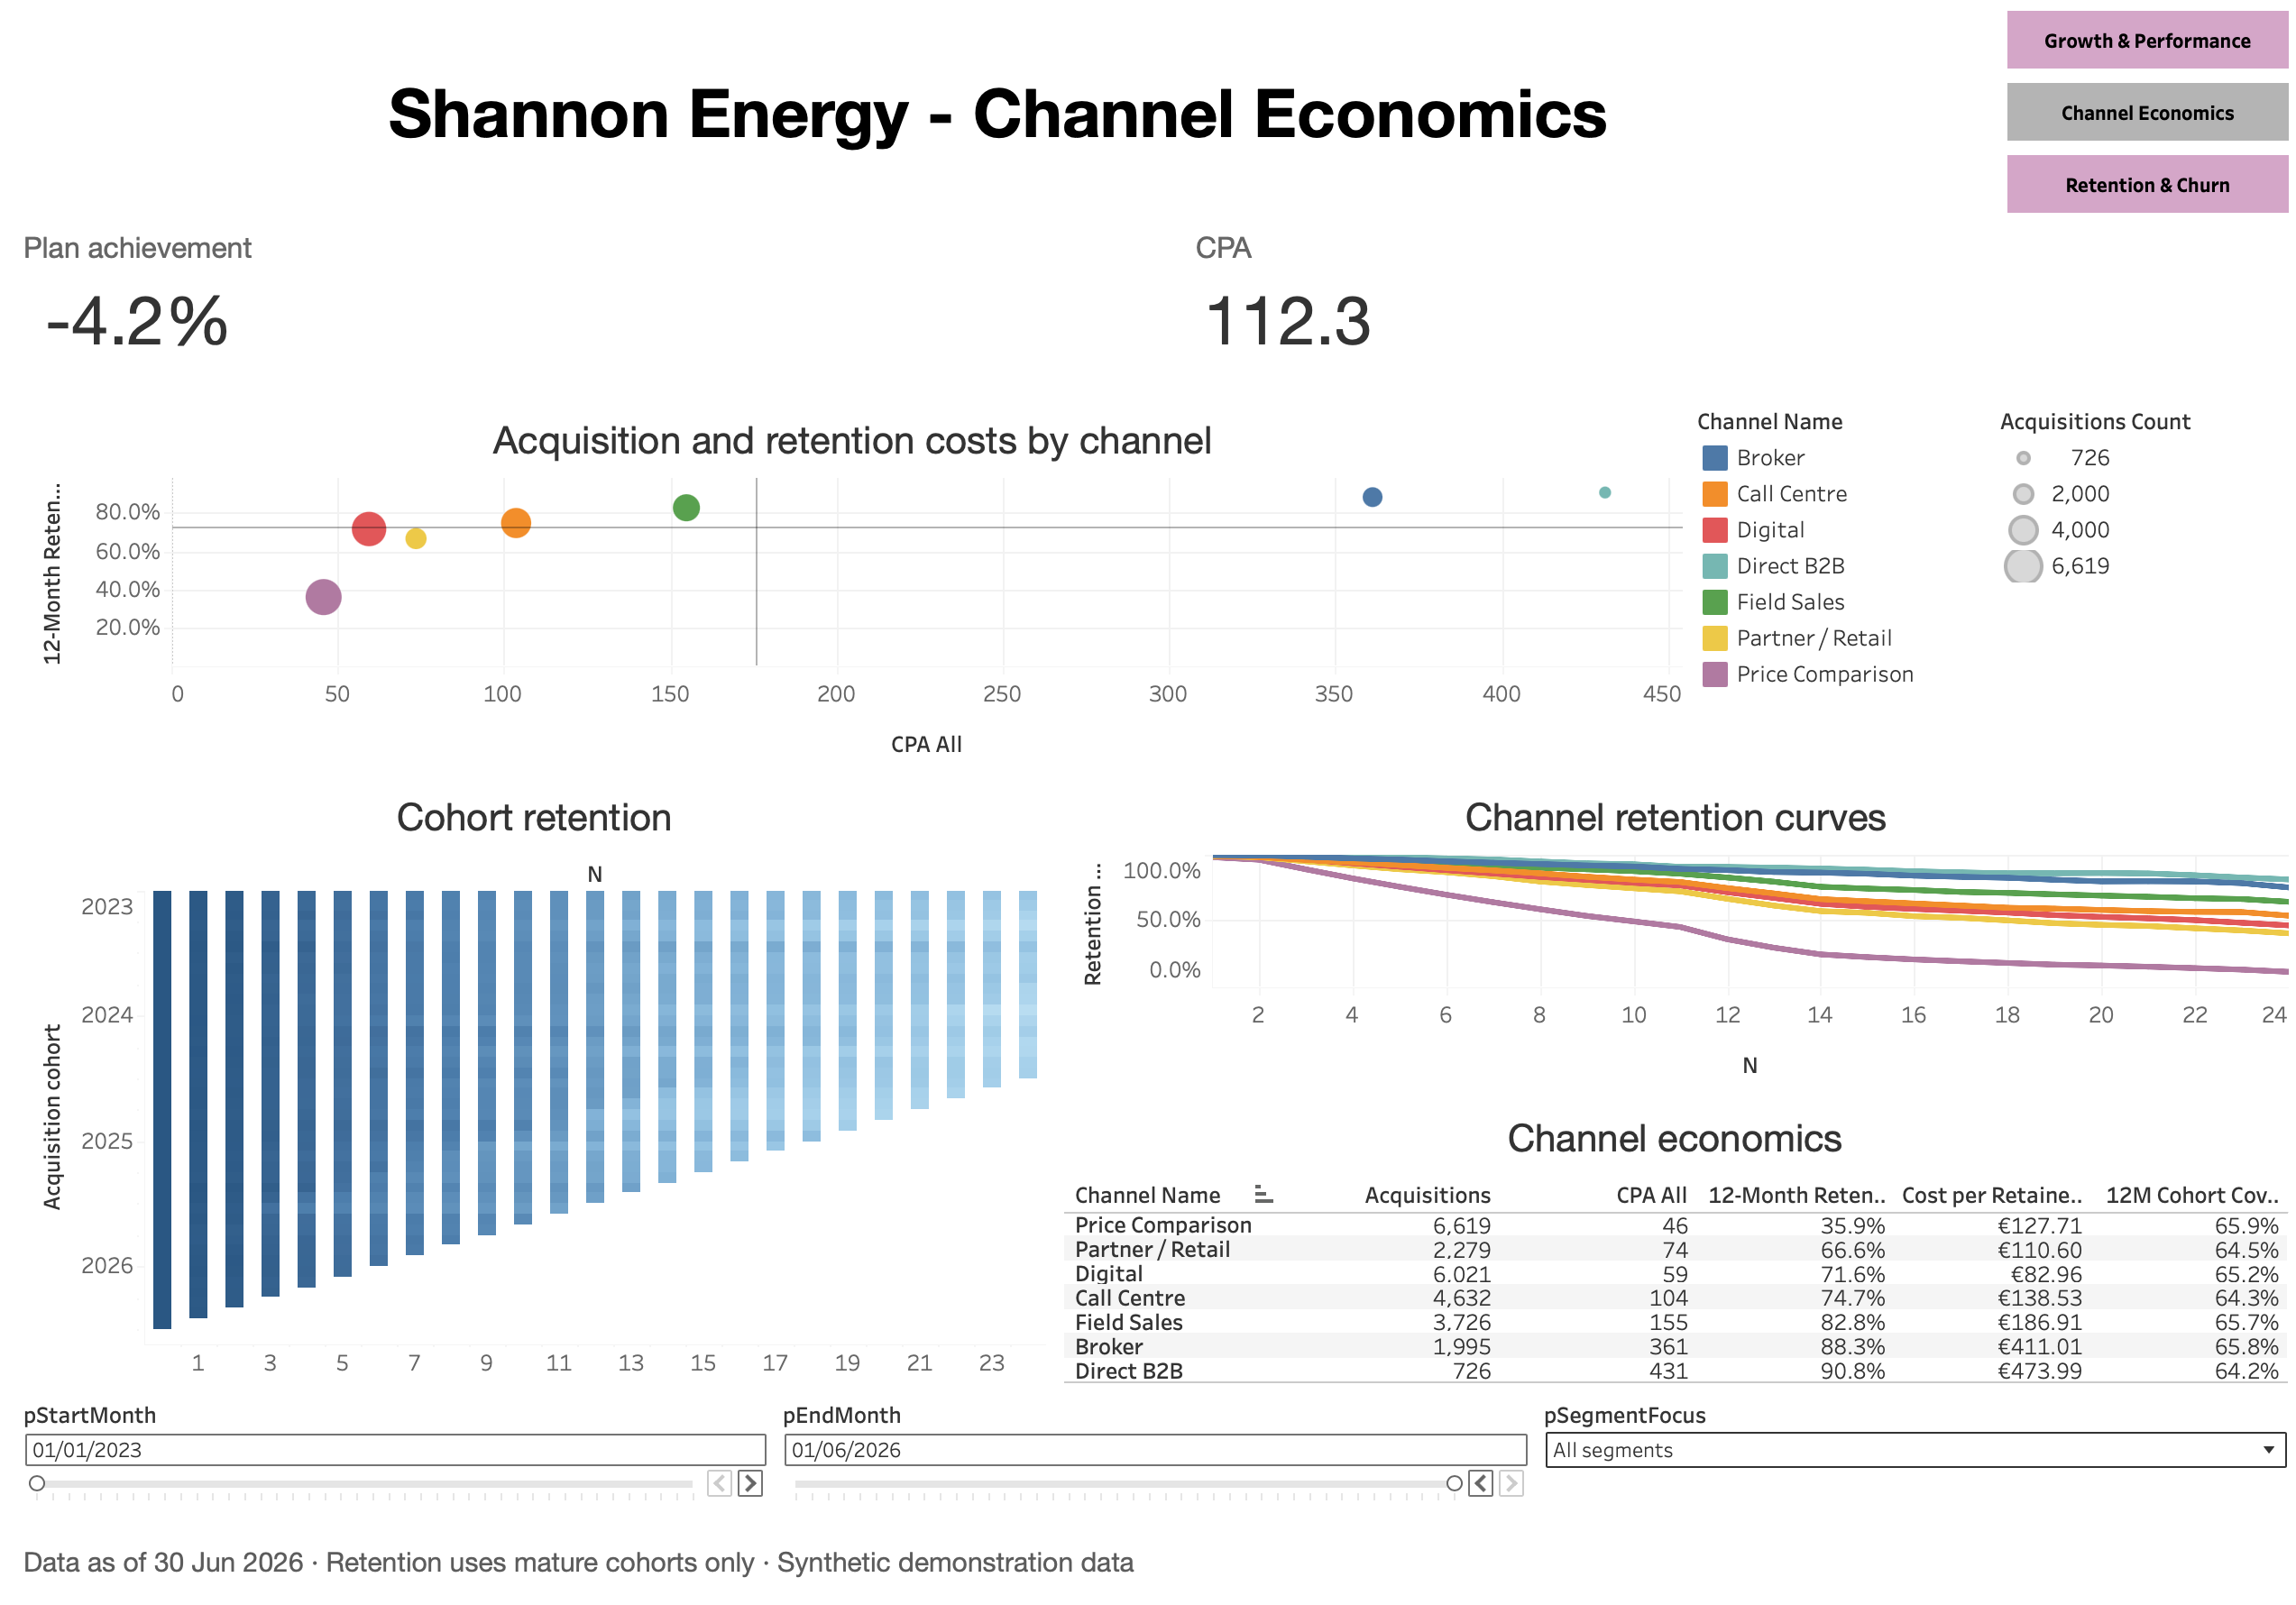

What the dashboard file says about the page in this screenshot:
{"tool":"tableau","page":{"name":"Channel Economics","canvas":[1280,900],"ordinal":0},"visuals":[{"type":"text","box":[8,8,1100,120]},{"type":"dashboard-object","box":[1108,8,164,40]},{"type":"dashboard-object","box":[1108,48,164,40]},{"type":"dashboard-object","box":[1108,88,164,40]},{"type":"text","box":[8,128,646,30]},{"type":"text","box":[654,128,618,30]},{"type":"worksheet","title":"KPI Acq vs Target","mark":"Automatic","box":[8,158,632,69]},{"type":"worksheet","title":"KPI CPA","mark":"Automatic","box":[640,158,632,69]},{"type":"worksheet","title":"CPA vs Retention Scatter","mark":"Circle","rows":["Calculation_2794116628774937"],"cols":["Calculation_2794116629262365"],"box":[8,227,928,195]},{"type":"legend","title":"CPA vs Retention Scatter","param":"[federated.0d4l4po00gbiyy17hizud0gmugyc].[none:ChannelName:nk]","box":[936,227,168,195]},{"type":"legend","title":"CPA vs Retention Scatter","param":"[federated.0d4l4po00gbiyy17hizud0gmugyc].[usr:Calculation_2893553771401216:qk]","box":[1104,227,168,195]},{"type":"worksheet","title":"Retention Curves by Channel","mark":"Line","rows":["Calculation_2794116629438497"],"cols":["N"],"box":[8,422,609,236]},{"type":"worksheet","title":"Channel Economics Table","mark":"Automatic","rows":["ChannelName"],"box":[617,422,655,236]},{"type":"worksheet","title":"Cohort Retention Heatmap","mark":"Square","rows":["CohortMonth"],"cols":["N"],"box":[8,658,689,195]},{"type":"parameter","param":"[Parameters].[Parameter 2794116622106624]","box":[697,658,575,71.5]},{"type":"parameter","param":"[Parameters].[Parameter 2794116622622721]","box":[697,729.5,575,71.5]},{"type":"parameter","param":"[Parameters].[Parameter 2794116622929922]","box":[697,801,575,52]},{"type":"text","box":[8,853,1264,39]}]}

Visuals, with their boxes in screenshot pixels (x1, y1, x2, y2), scaled from the page's 1280x900 canvas onto the 2296x1605 screenshot:
text: (14,14,1988,228)
dashboard-object: (1988,14,2282,86)
dashboard-object: (1988,86,2282,157)
dashboard-object: (1988,157,2282,228)
text: (14,228,1173,281)
text: (1173,228,2282,281)
"KPI Acq vs Target" worksheet: (14,281,1148,405)
"KPI CPA" worksheet: (1148,281,2282,405)
"CPA vs Retention Scatter" worksheet (Circle marks): (14,405,1679,753)
"CPA vs Retention Scatter" legend: (1679,405,1980,753)
"CPA vs Retention Scatter" legend: (1980,405,2282,753)
"Retention Curves by Channel" worksheet (Line marks): (14,753,1107,1173)
"Channel Economics Table" worksheet: (1107,753,2282,1173)
"Cohort Retention Heatmap" worksheet (Square marks): (14,1173,1250,1521)
parameter: (1250,1173,2282,1301)
parameter: (1250,1301,2282,1428)
parameter: (1250,1428,2282,1521)
text: (14,1521,2282,1591)
